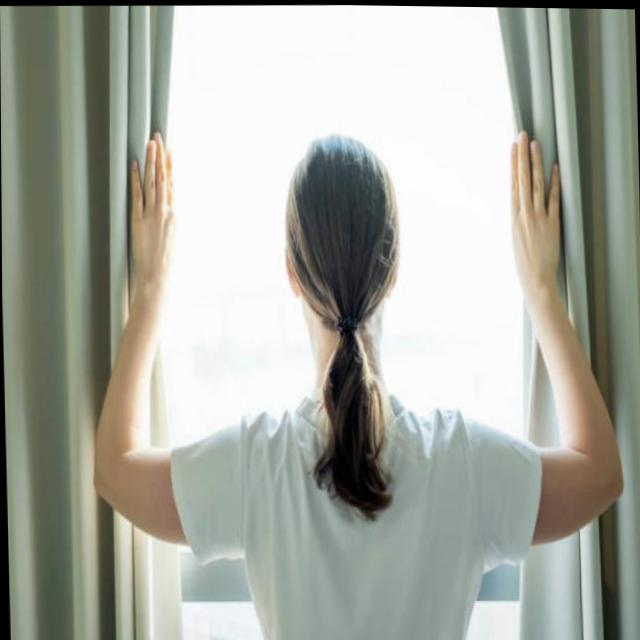no helmet: (277, 129, 410, 341)
